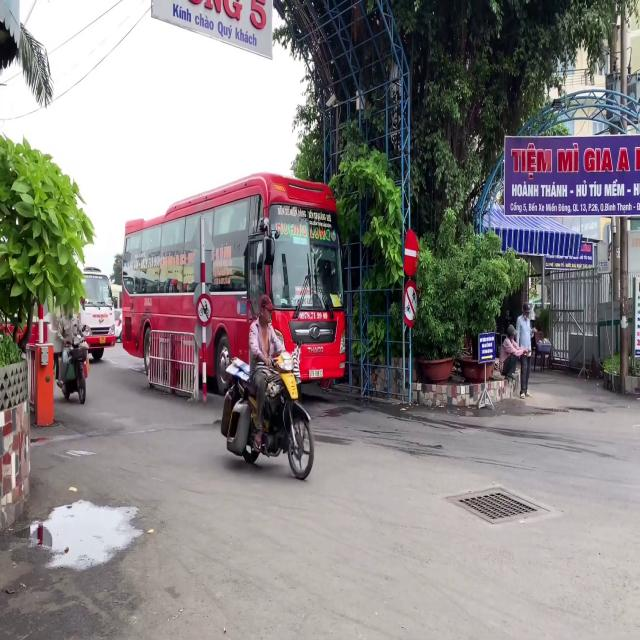bien_trang: (308, 369, 324, 377)
